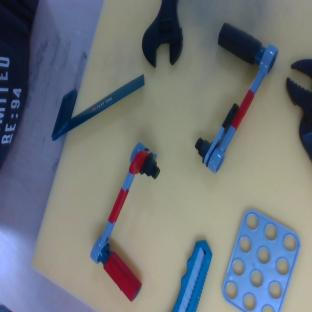non_pass: (168, 22, 281, 177)
pass: (84, 138, 164, 302)
